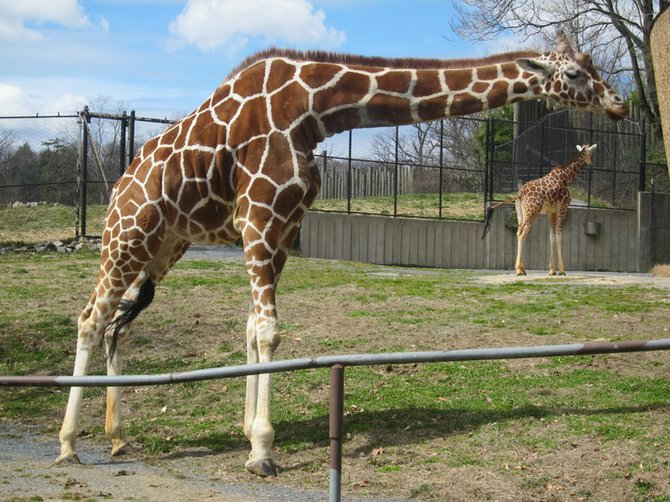Jirafa: (205, 17, 636, 181)
